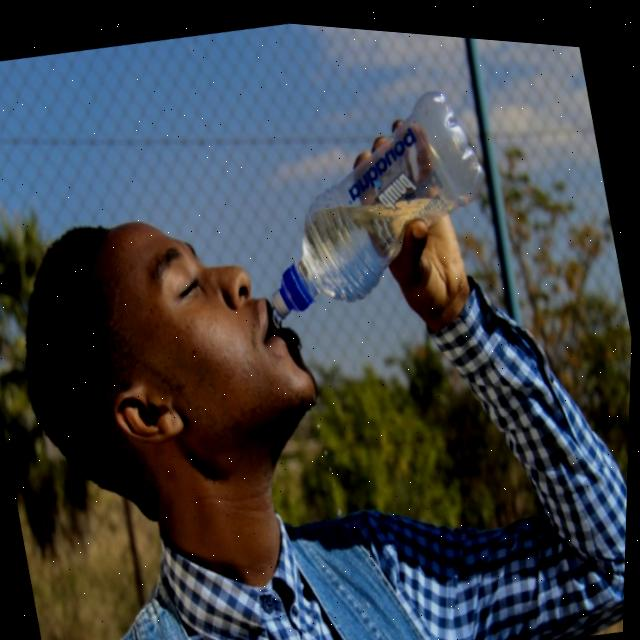eating-person: (0, 18, 640, 640)
